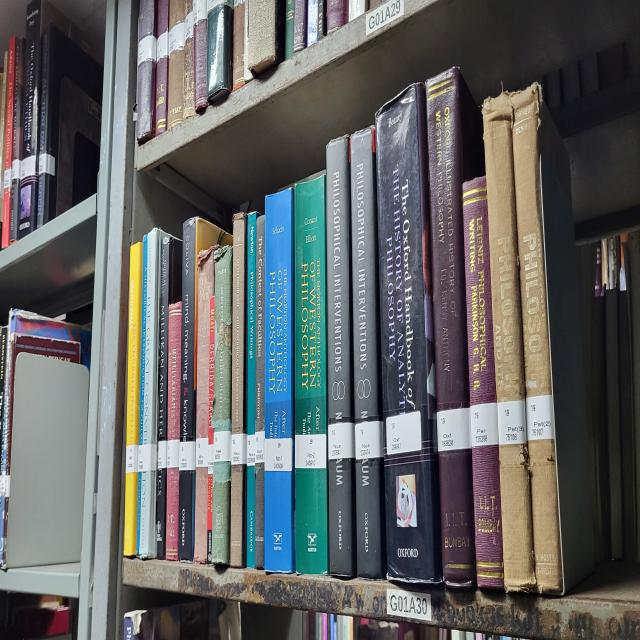Book: (375, 84, 441, 584), (426, 68, 484, 587), (482, 92, 536, 593), (511, 84, 564, 593), (179, 216, 230, 560), (462, 176, 504, 587), (350, 127, 385, 579), (295, 173, 329, 574), (326, 135, 356, 576), (264, 189, 295, 574), (156, 235, 182, 560), (138, 227, 161, 557), (194, 246, 216, 563), (211, 246, 232, 565), (230, 214, 248, 565), (124, 241, 142, 557), (246, 211, 259, 568), (165, 300, 182, 560), (255, 216, 265, 568)
Label: (436, 406, 471, 452), (386, 411, 421, 455), (470, 403, 499, 449), (498, 400, 526, 446), (526, 395, 554, 441), (355, 419, 384, 460), (295, 433, 326, 468), (328, 422, 355, 460), (265, 438, 292, 471), (214, 430, 231, 463), (179, 441, 196, 471), (139, 444, 156, 473), (231, 433, 246, 465), (166, 438, 180, 468), (196, 438, 209, 468), (126, 444, 139, 473), (255, 430, 265, 463), (246, 433, 255, 465), (158, 441, 168, 468), (208, 444, 214, 473)
